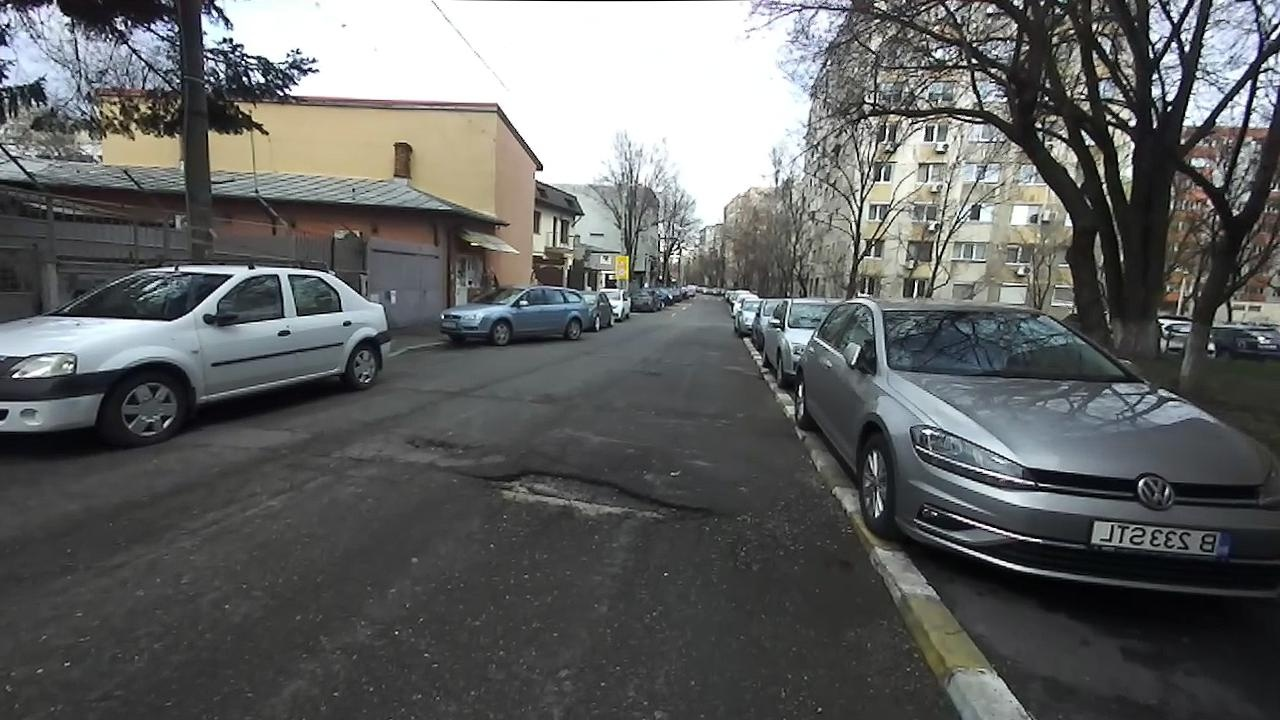pothole: (450, 467, 717, 523), (397, 427, 478, 456)
